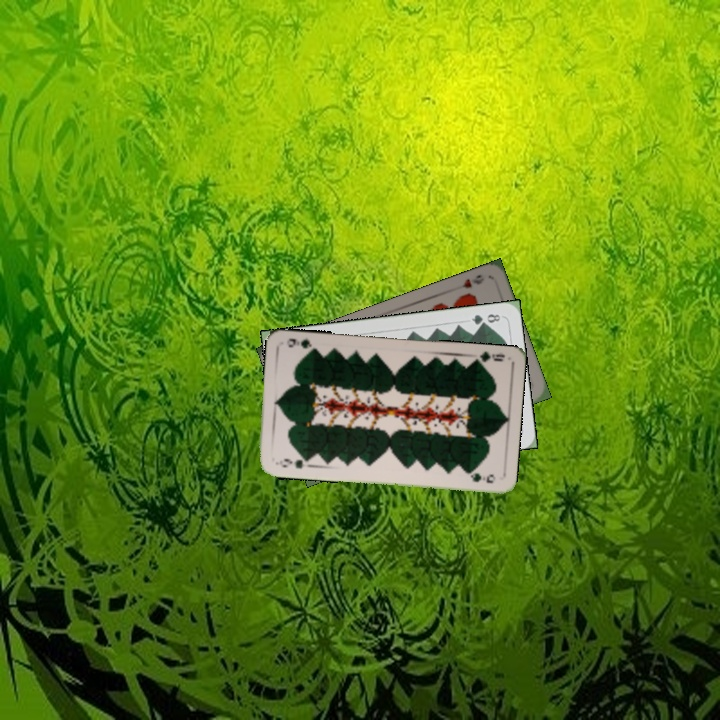G8: (467, 310, 503, 328)
G9: (468, 347, 507, 367), (272, 455, 313, 471)
H9: (451, 271, 487, 293)
